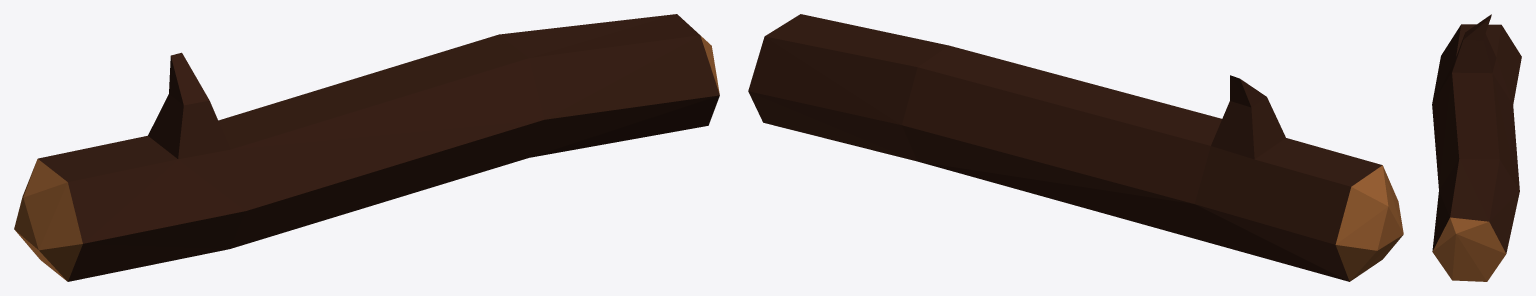
The model's file is Branch.obj.
The picture shows the model from 3 angles, left to right: view 1: azimuth 30°, elevation 25°; view 2: azimuth 150°, elevation 25°; view 3: azimuth 270°, elevation 25°; orthographic projection. The views are drawn at different scales.
Visible parts, largest first — view 1: Branch_Cylinder.003_Branch1_1, Branch_Cylinder.003_Branch1_2; view 2: Branch_Cylinder.003_Branch1_1, Branch_Cylinder.003_Branch1_2; view 3: Branch_Cylinder.003_Branch1_1, Branch_Cylinder.003_Branch1_2.
Boxes of the visible parts, left/top/right/bottom form: Branch_Cylinder.003_Branch1_1: left=38, top=14, right=719, bottom=281; Branch_Cylinder.003_Branch1_2: left=14, top=35, right=719, bottom=281; Branch_Cylinder.003_Branch1_1: left=748, top=14, right=1382, bottom=281; Branch_Cylinder.003_Branch1_2: left=1335, top=165, right=1403, bottom=281; Branch_Cylinder.003_Branch1_1: left=1432, top=14, right=1521, bottom=253; Branch_Cylinder.003_Branch1_2: left=1432, top=217, right=1505, bottom=281.
Bounding box in the file's own units: 2.88 × 0.7452 × 0.5286.
